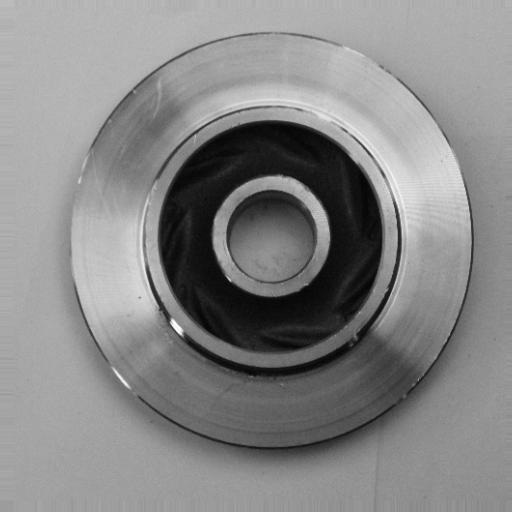scratch: (287, 100, 365, 140), (104, 351, 150, 407), (154, 300, 197, 349)
unpolished_casting: (68, 29, 474, 452)
